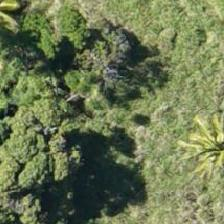coconut_tree: (168, 105, 223, 195), (169, 86, 223, 176), (0, 0, 52, 48)
